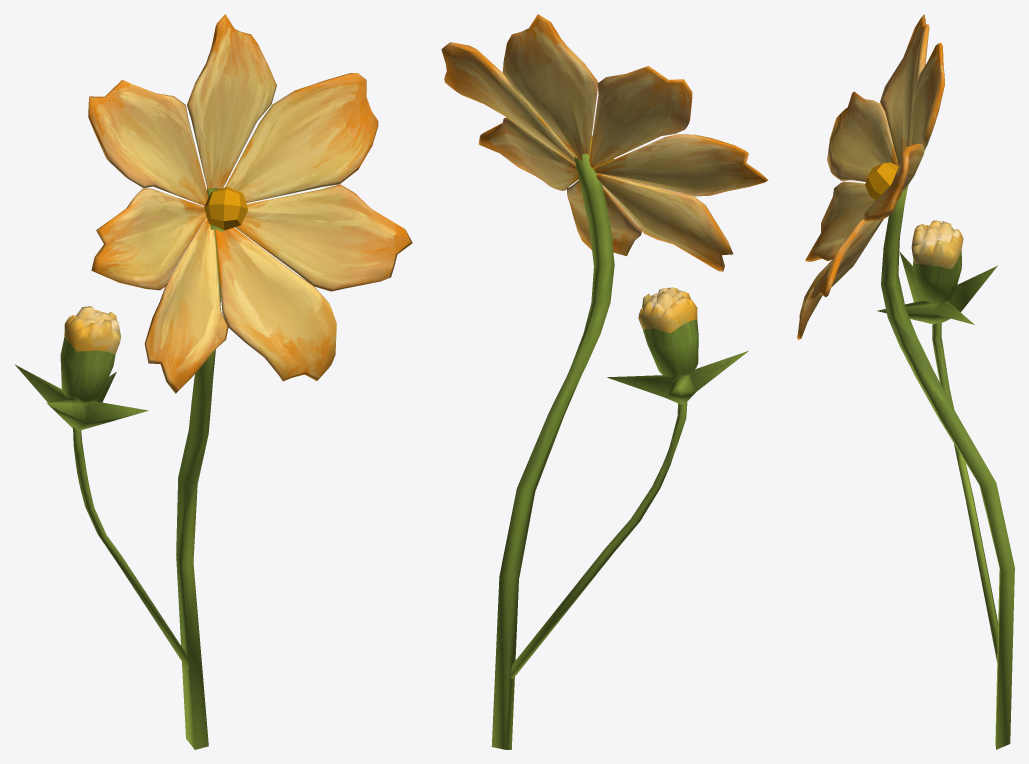
Rendered from Flor_3.fbx.
3 views of the same model, side by side, from view 1: azimuth 30°, elevation 25°; view 2: azimuth 150°, elevation 25°; view 3: azimuth 270°, elevation 25° (orthographic). The views are drawn at different scales.
Visible parts, largest first — view 1: Flor2.004; view 2: Flor2.004; view 3: Flor2.004.
Boxes of the visible parts, x1,y1,x2,y2 form: Flor2.004: (15,14,412,749); Flor2.004: (441,14,768,749); Flor2.004: (797,14,1014,749).
Size of the model in its own units: 0.8402 by 1.86 by 0.5238.
